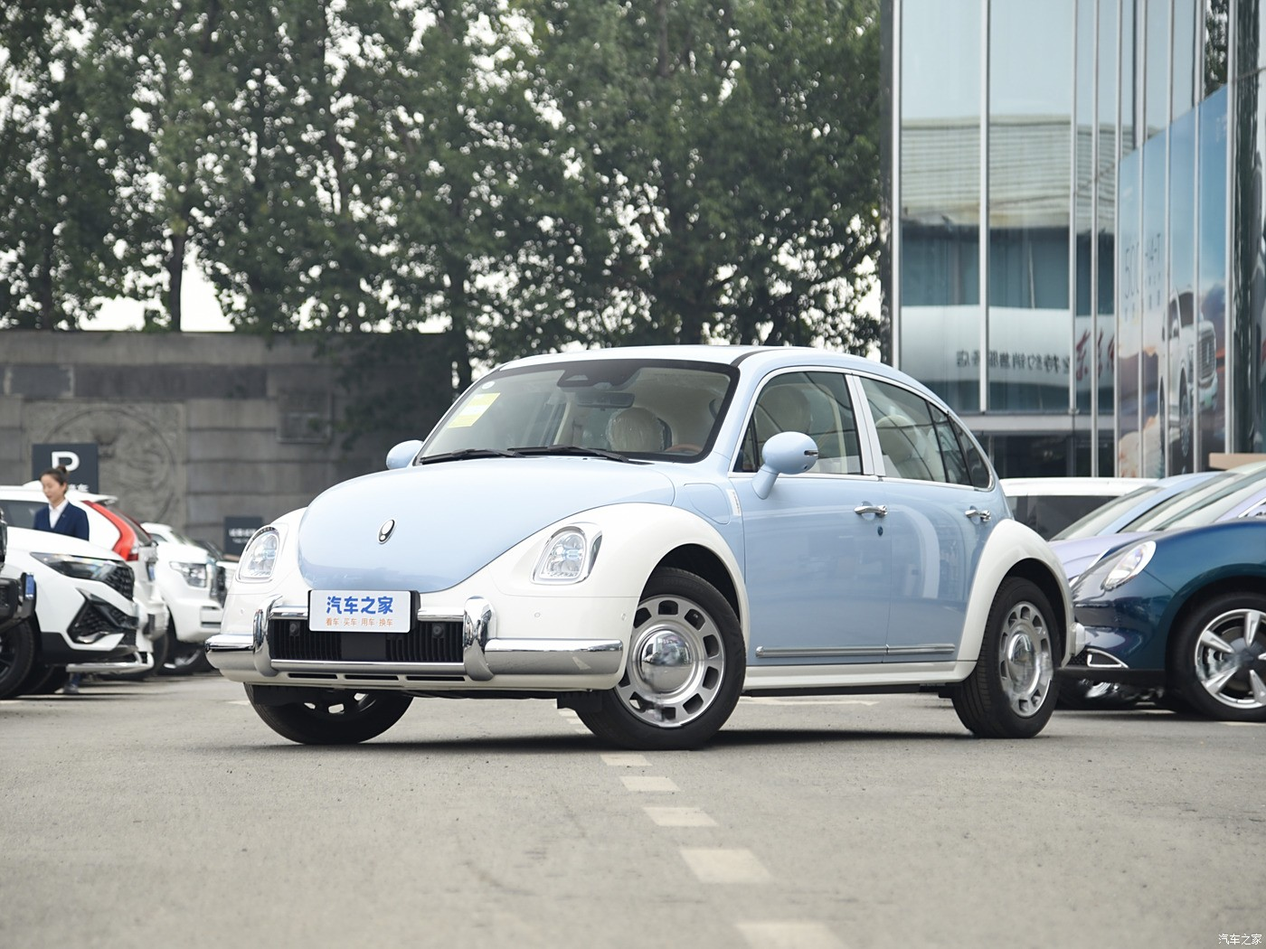ORA: (379, 520, 395, 543)
